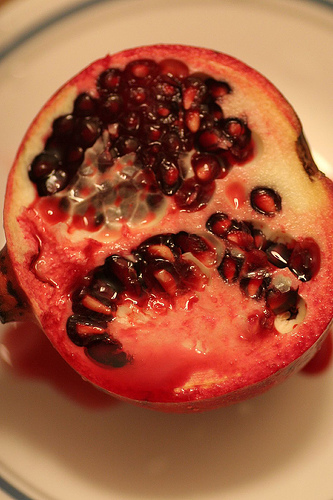pomogranate: (2, 42, 331, 416)
